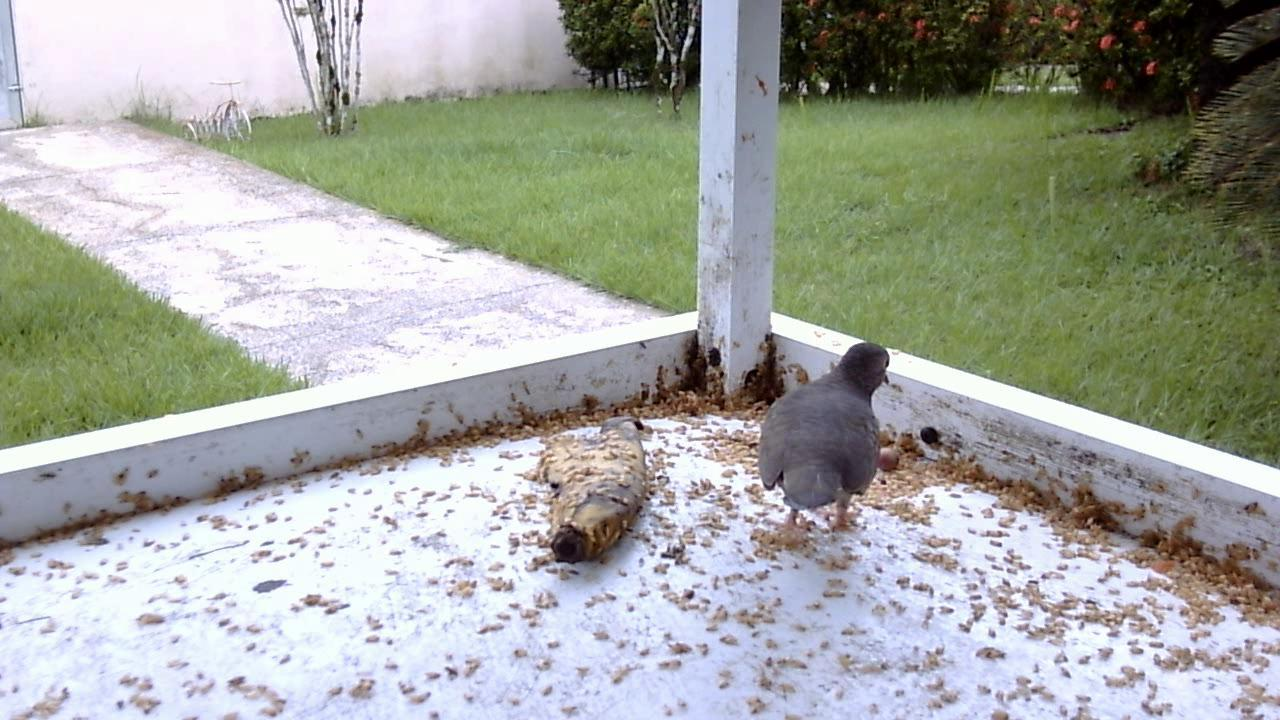rolinha: (748, 338, 903, 537)
